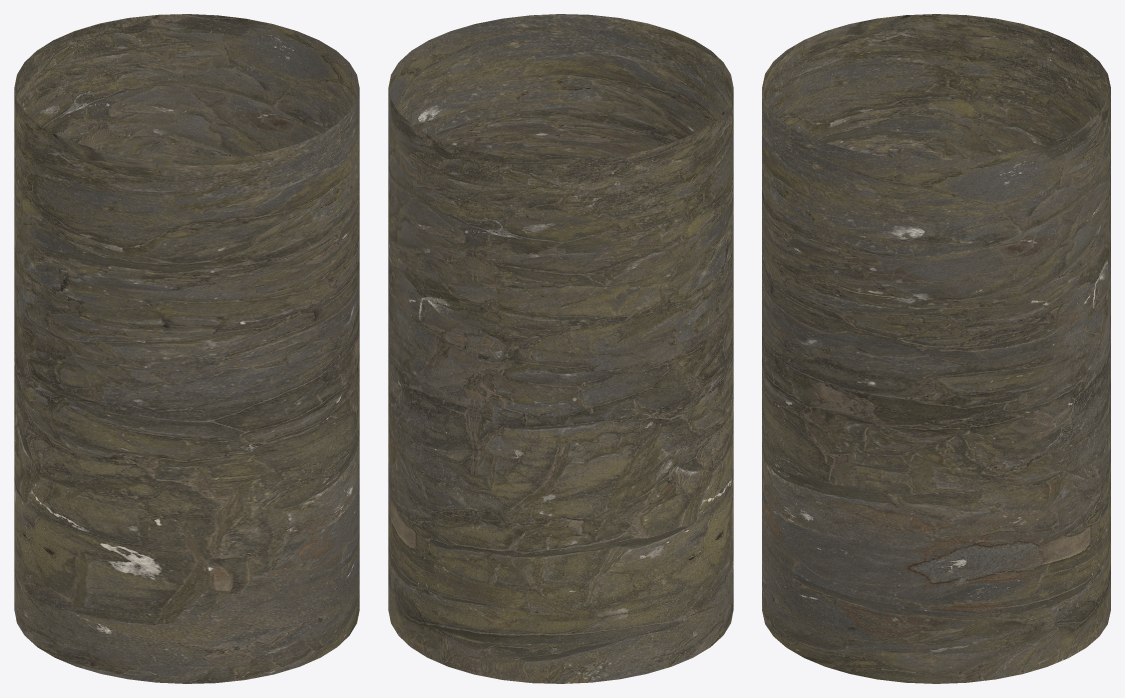
The model's file is tunnel_H1_6.glb.
3 views of the same model, side by side, from view 1: azimuth 30°, elevation 25°; view 2: azimuth 150°, elevation 25°; view 3: azimuth 270°, elevation 25° (orthographic).
Visible parts, largest first — view 1: XSBYSZK_01; view 2: XSBYSZK_01; view 3: XSBYSZK_01.
Part boxes in pixels (x1,y1,x2,y2): XSBYSZK_01: [14, 14, 359, 683]; XSBYSZK_01: [388, 14, 733, 683]; XSBYSZK_01: [762, 14, 1110, 683].
Size of the model in its own units: 7.54 by 12.6 by 7.6.
Materials: 1 (1 with a texture image).
